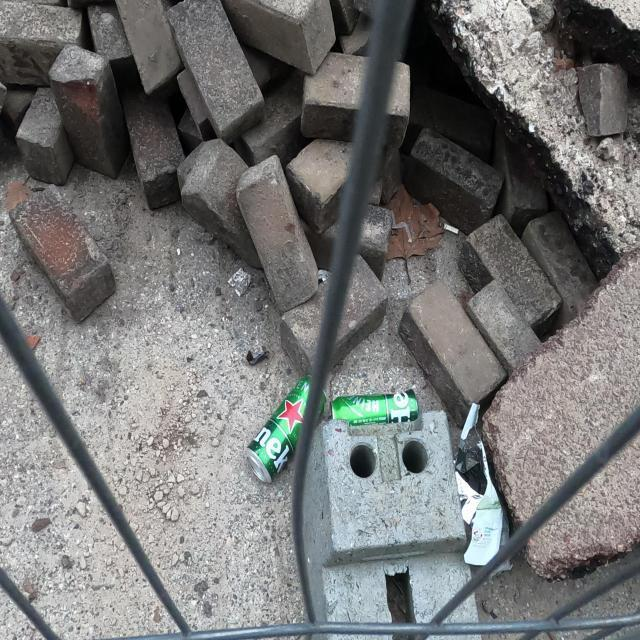Can-Metal: (244, 373, 328, 485), (328, 386, 419, 428)
